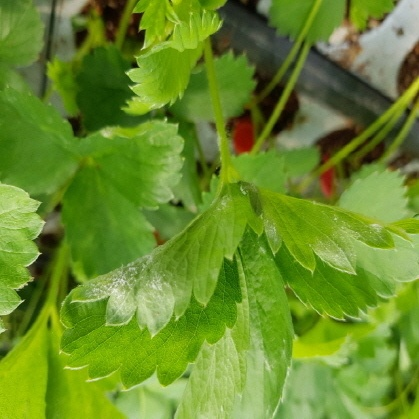Powdery_Leaf: (58, 28, 266, 241), (249, 99, 418, 227)
